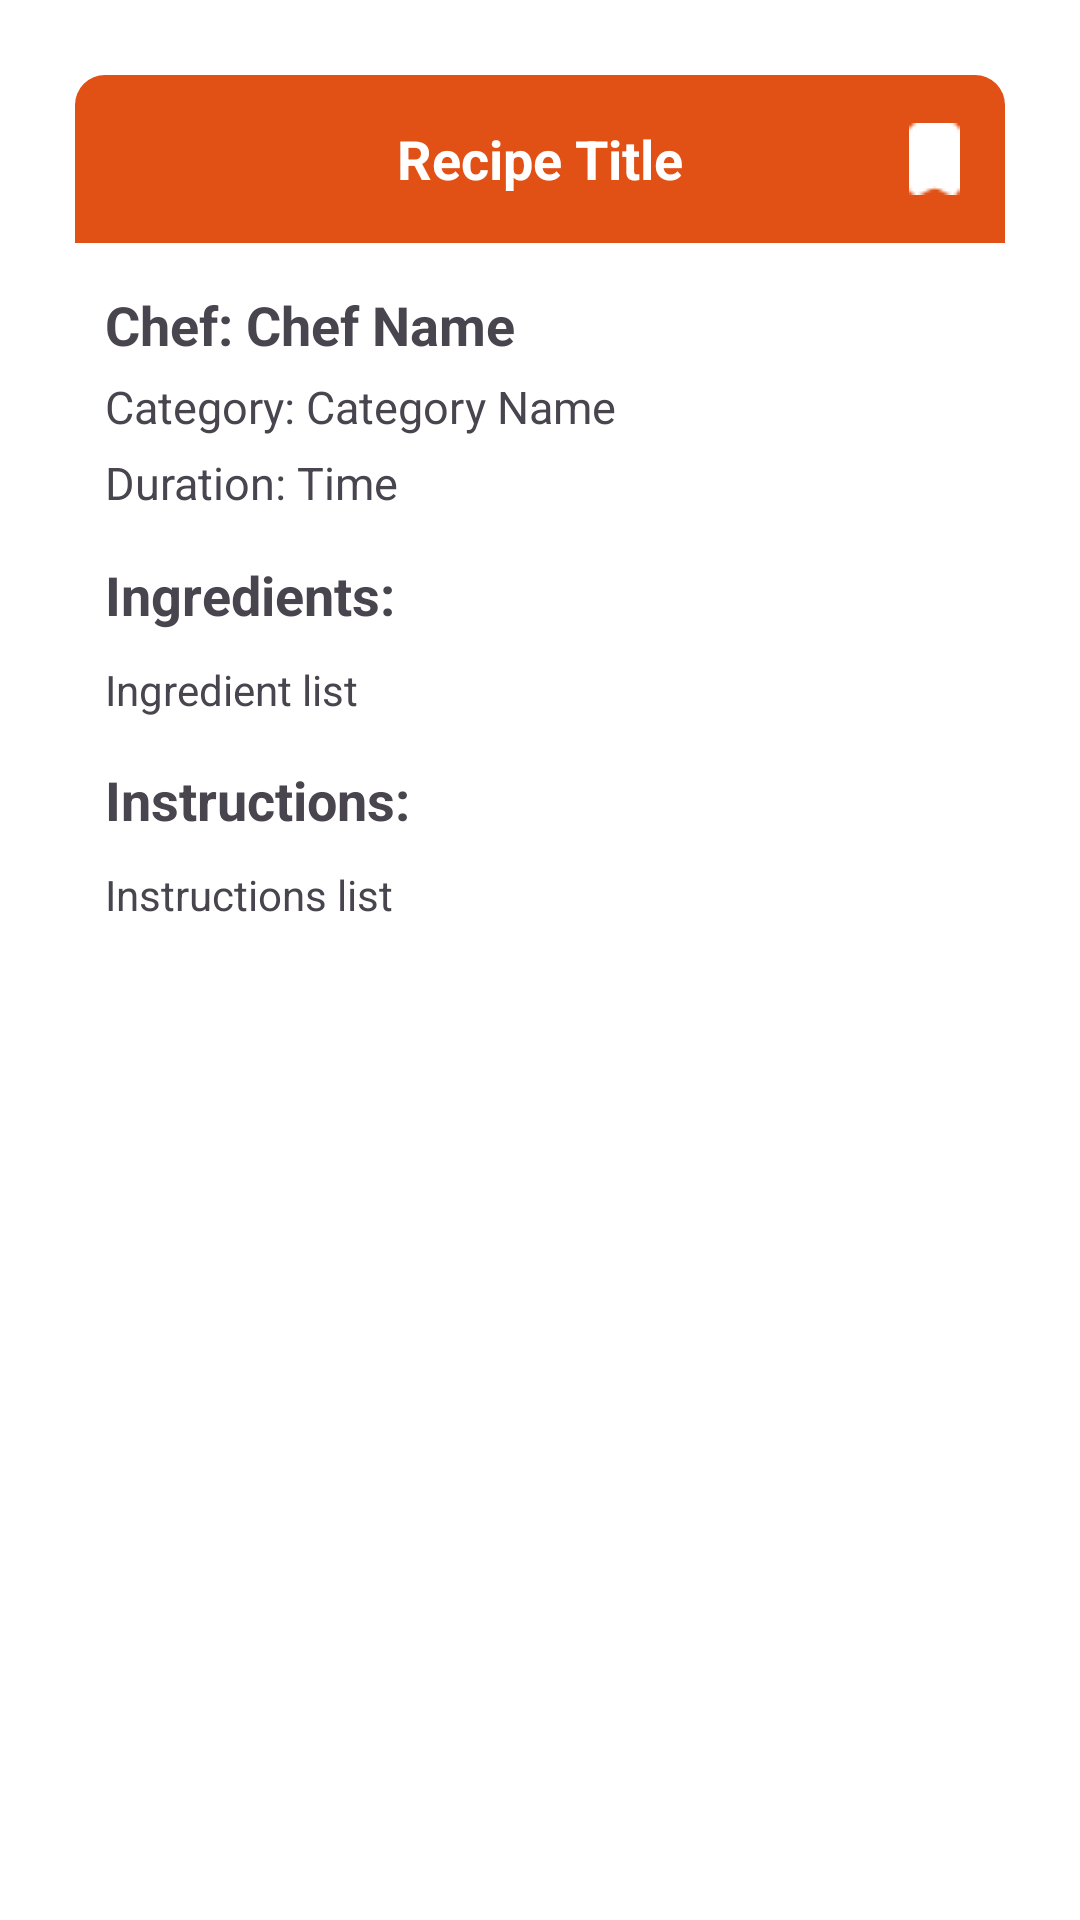

Where to tap for icons on this 1080x1920 app screen, as [x,y]:
Bookmark Icon: [934,159]
